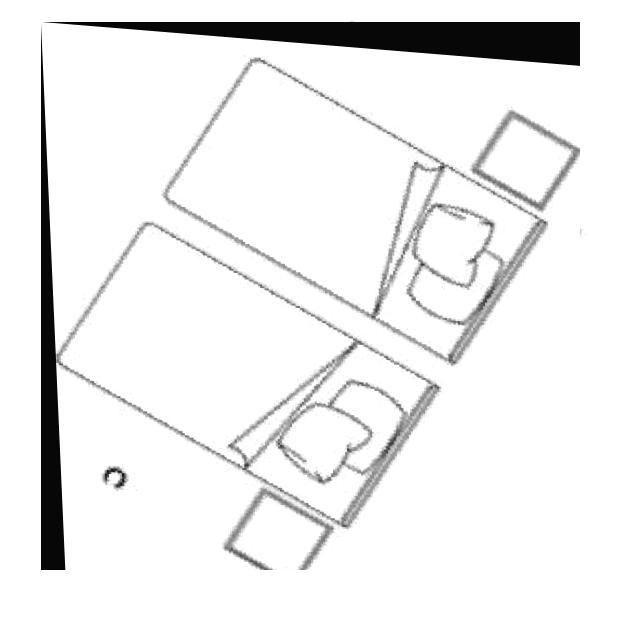bed: (41, 22, 580, 570)
